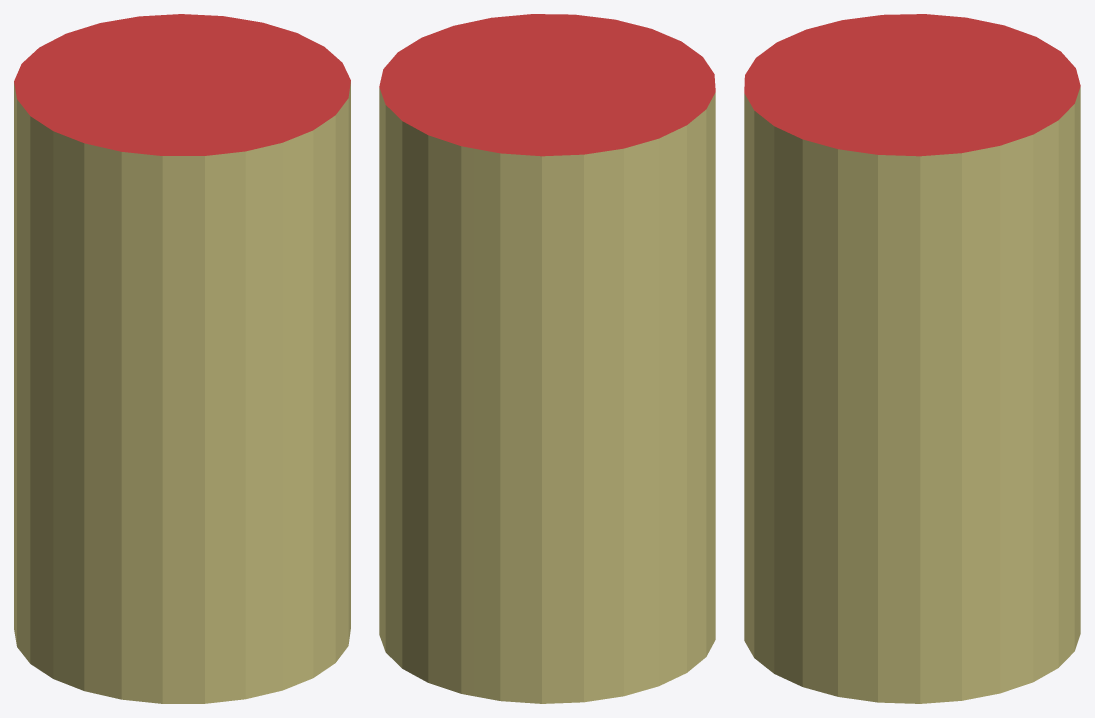
3 renders of one model, left to right at view 1: azimuth 30°, elevation 25°; view 2: azimuth 150°, elevation 25°; view 3: azimuth 270°, elevation 25°, orthographic.
Bounding box in the file's own units: 3.61 × 3.61 × 6.48.
